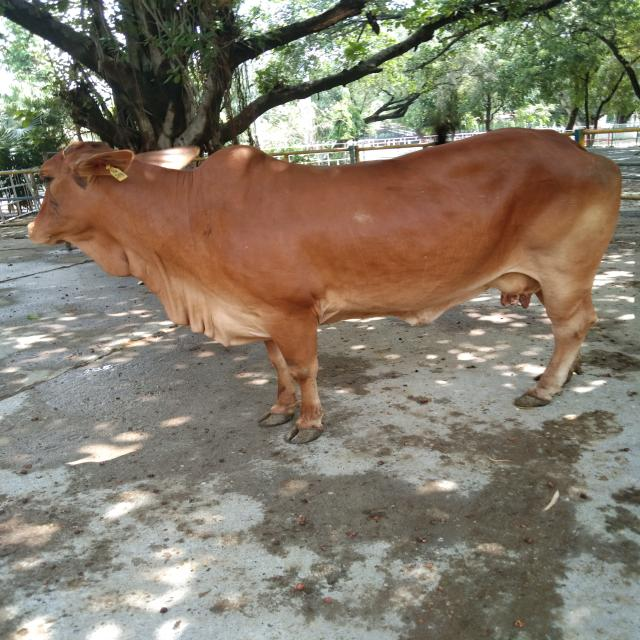1: (186, 145, 287, 172)
Hoof: (284, 423, 324, 444), (513, 391, 551, 408), (257, 411, 294, 427)
